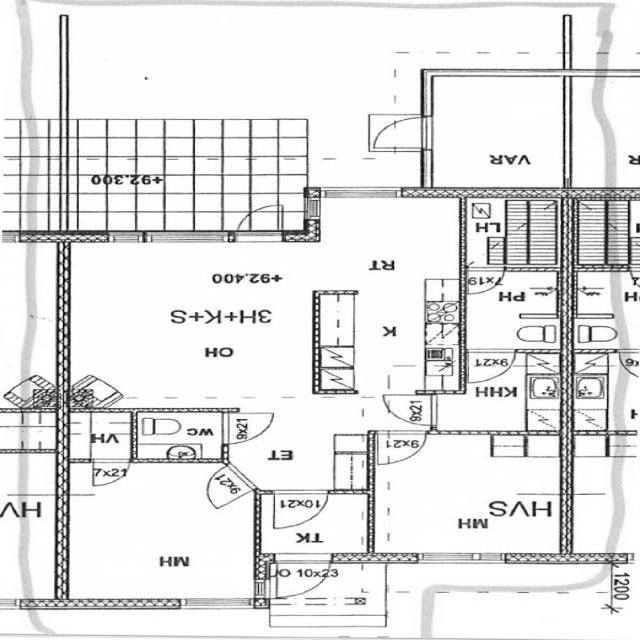door: (460, 267, 566, 352), (375, 391, 431, 465), (359, 112, 434, 158), (270, 555, 334, 601), (270, 490, 328, 531), (371, 429, 427, 466), (462, 350, 514, 386), (380, 392, 431, 428), (222, 411, 276, 445), (204, 472, 244, 509), (86, 459, 132, 489), (460, 266, 505, 294), (621, 355, 640, 379)
window: (408, 549, 509, 569), (313, 182, 408, 202), (134, 229, 238, 247), (176, 596, 254, 613), (0, 596, 25, 612)
zone: (38, 5, 400, 132), (54, 240, 330, 406), (312, 192, 463, 398), (54, 461, 257, 607), (369, 432, 572, 558), (423, 71, 576, 192), (449, 349, 567, 435), (461, 268, 566, 352), (261, 489, 373, 560), (129, 408, 226, 463), (568, 266, 630, 351), (569, 351, 624, 436), (63, 408, 134, 464), (223, 412, 273, 444)
